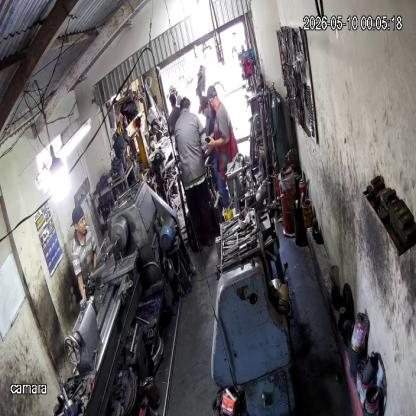sin_lentes: (75, 214, 87, 226)
